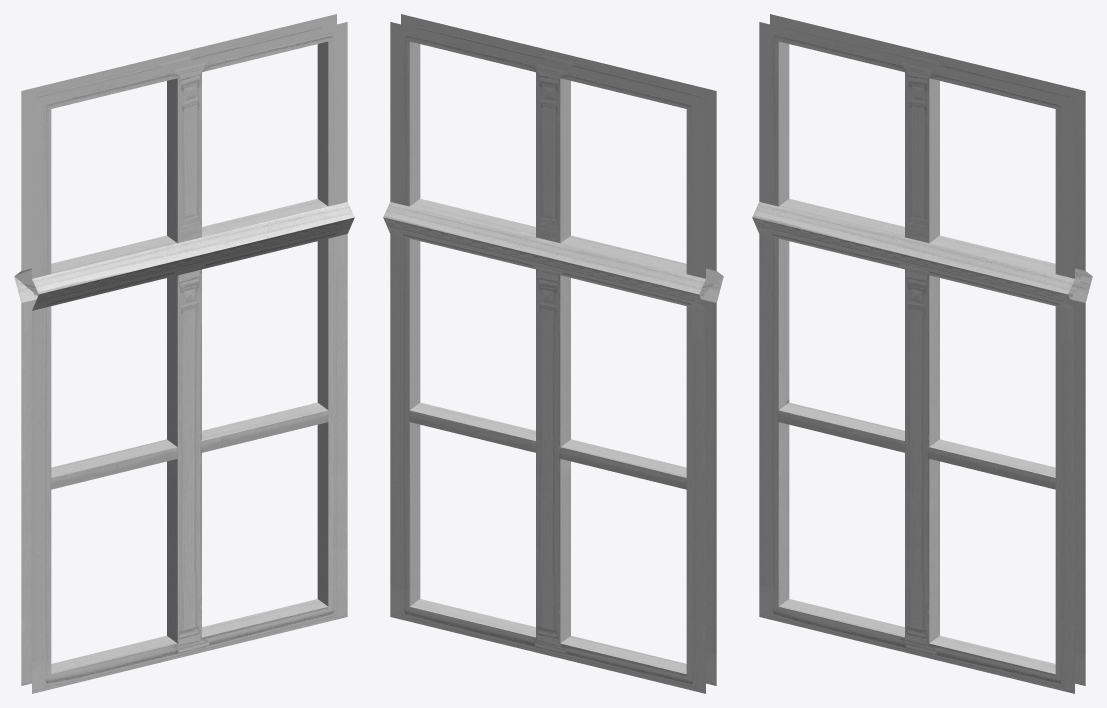
File: Window1A.fbx
3 renders of one model, left to right at view 1: azimuth 30°, elevation 25°; view 2: azimuth 150°, elevation 25°; view 3: azimuth 330°, elevation 25°, orthographic.
Parts seen in each view (by area): view 1: Window1A; view 2: Window1A; view 3: Window1A.
Part boxes in pixels (<box>): Window1A: <box>14,14,354,693</box>; Window1A: <box>383,14,723,693</box>; Window1A: <box>752,14,1092,693</box>.
Bounding box in the file's own units: 100 × 180 × 13.57.
